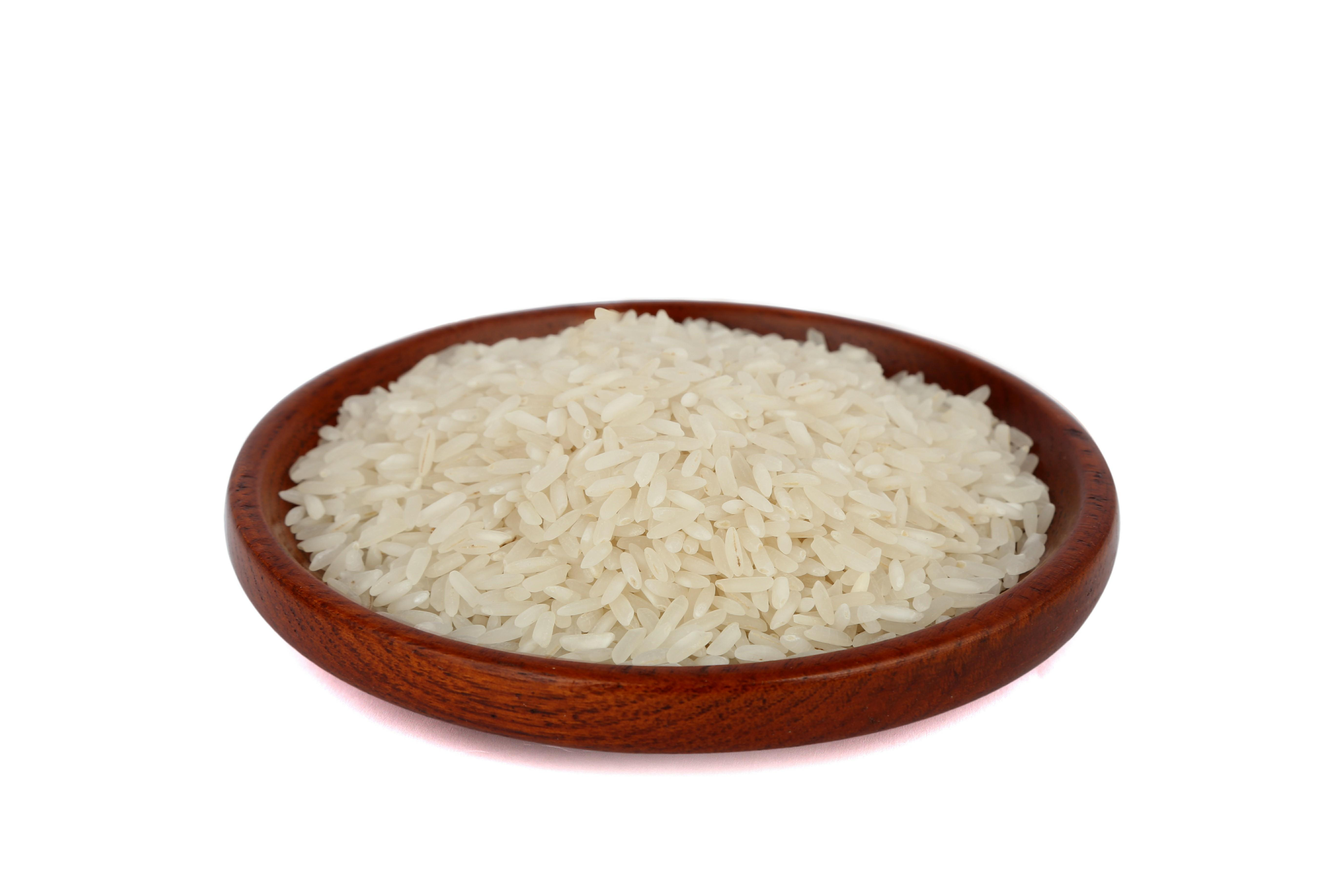WhiteRice: (284, 303, 1057, 654)
